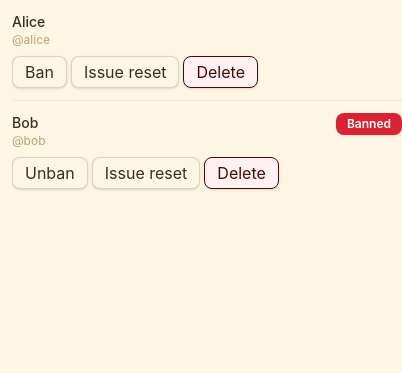
FollowerManagementPanel › uses the configured public app URL for the password reset link
The image size is (402, 373).
Click the 1st button "Issue reset" at (125, 72), box 71,56 -> 180,88
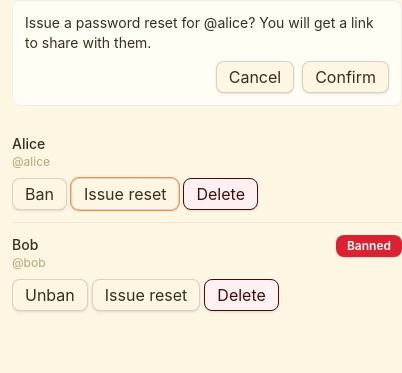
Click the button "Confirm" at (346, 77), box 302,61 -> 389,93
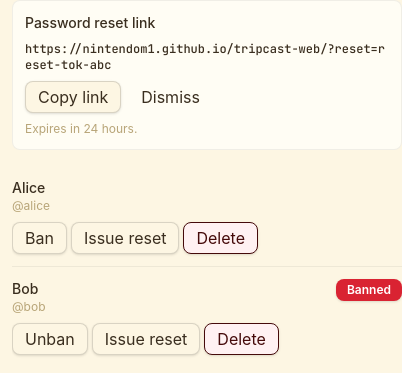
expect the text "https://nintendom1.github.io/tripcast-web/?reset=reset-tok-abc" is shown: met, box 25,41 -> 389,73
